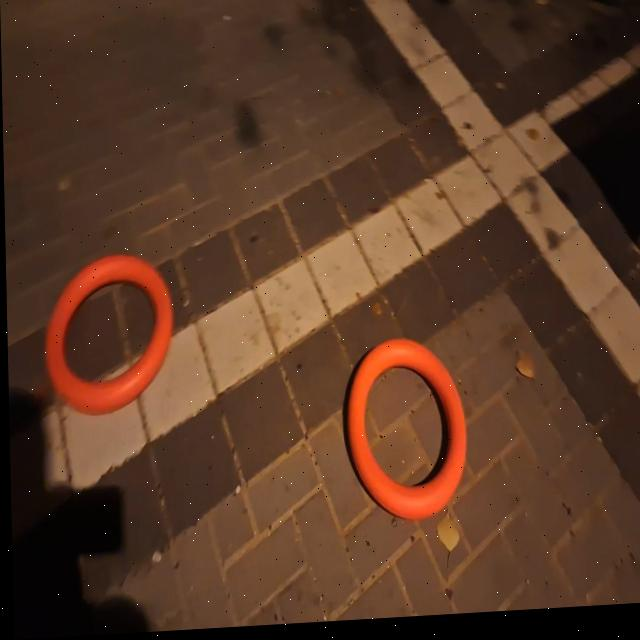note: (344, 341, 466, 528), (41, 254, 174, 418)
